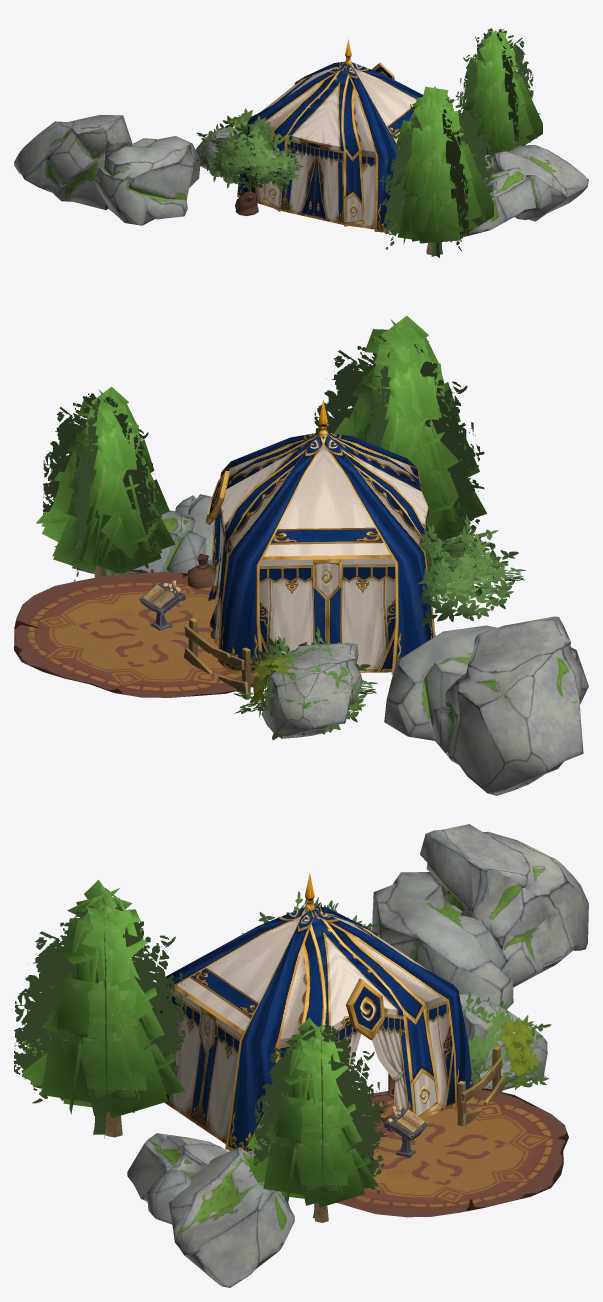
File: MainCityDecor_Home_Tent.glb
The picture shows the model from 3 angles, top to bottom: view 1: azimuth 30°, elevation 25°; view 2: azimuth 150°, elevation 25°; view 3: azimuth 270°, elevation 25°; orthographic projection. The views are drawn at different scales.
Parts seen in each view (by area): view 1: EnvCampsite_Detail__Tent___Basics___5__un2592563027630665091, EnvDetail__Bush___19_1__un3127060208149245315, SM_Gray_Stone_Small_02_LOD0__u2732957738683290237, SM_Gray_Stone_Small_01_LOD0__un7317893653869669763, EnvDetail__Bush___18__u2451417814203191933, Shadow__u4837298399486497405, EnvDetail__Bush___20_7__un4634967264953216387, SM_Gray_Stone_Small_03_LOD0_1__u1385842370882392701, SM_Gray_Stone_Small_03_LOD0__un6296737205014277507, Shadow__u7782811322288657021, EnvDetail__Bush___20_8__un6389556213359881603, SM_Gray_Stone_Small_01_LOD0__un4148644543689239939 (+1 smaller); view 2: EnvCampsite_Detail__Tent___Basics___5__un2592563027630665091, EnvCampsite_Detail__Rug__3_2__u5630360718777012861, SM_Gray_Stone_Small_01_LOD0__un7317893653869669763, EnvDetail__Bush___18__u2451417814203191933, EnvDetail__Bush___19_1__un3127060208149245315, EnvDetail__Bush___20_7__un4634967264953216387, SM_Gray_Stone_Small_01_LOD0__un4148644543689239939, Shadow__u4837298399486497405, SM_Gray_Stone_Small_02_LOD0__u2732957738683290237, Shadow__u7782811322288657021, EnvDetail__Bush___20_8__un6389556213359881603, SM_Gray_Stone_Small_03_LOD0_1__u1385842370882392701 (+5 smaller); view 3: EnvCampsite_Detail__Tent___Basics___5__un2592563027630665091, EnvDetail__Bush___19_1__un3127060208149245315, EnvCampsite_Detail__Rug__3_2__u5630360718777012861, SM_Gray_Stone_Small_01_LOD0__un7317893653869669763, EnvDetail__Bush___18__u2451417814203191933, SM_Gray_Stone_Small_03_LOD0_1__u1385842370882392701, SM_Gray_Stone_Small_02_LOD0__u2732957738683290237, Shadow__u4837298399486497405, Shadow__u7782811322288657021, SM_Gray_Stone_Small_03_LOD0__un6296737205014277507, EnvDetail__Bush___20_8__un6389556213359881603, SM_Gray_Stone_Small_01_LOD0__un4148644543689239939 (+3 smaller).
Boxes of the visible parts, bbox=[...] form: EnvCampsite_Detail__Tent___Basics___5__un2592563027630665091: bbox=[237, 39, 423, 232]; EnvDetail__Bush___19_1__un3127060208149245315: bbox=[384, 86, 494, 255]; SM_Gray_Stone_Small_02_LOD0__u2732957738683290237: bbox=[94, 136, 200, 225]; SM_Gray_Stone_Small_01_LOD0__un7317893653869669763: bbox=[14, 115, 132, 209]; EnvDetail__Bush___18__u2451417814203191933: bbox=[460, 30, 542, 155]; Shadow__u4837298399486497405: bbox=[379, 97, 493, 257]; EnvDetail__Bush___20_7__un4634967264953216387: bbox=[207, 116, 303, 192]; SM_Gray_Stone_Small_03_LOD0_1__u1385842370882392701: bbox=[483, 145, 588, 221]; SM_Gray_Stone_Small_03_LOD0__un6296737205014277507: bbox=[460, 167, 552, 237]; Shadow__u7782811322288657021: bbox=[455, 28, 533, 141]; EnvDetail__Bush___20_8__un6389556213359881603: bbox=[196, 108, 255, 183]; SM_Gray_Stone_Small_01_LOD0__un4148644543689239939: bbox=[195, 127, 241, 183]; EnvCampsite_Detail__Tent___Basics___5__un2592563027630665091: bbox=[206, 400, 435, 675]; EnvCampsite_Detail__Rug__3_2__u5630360718777012861: bbox=[14, 572, 259, 697]; SM_Gray_Stone_Small_01_LOD0__un7317893653869669763: bbox=[432, 616, 583, 795]; EnvDetail__Bush___18__u2451417814203191933: bbox=[36, 386, 175, 577]; EnvDetail__Bush___19_1__un3127060208149245315: bbox=[334, 315, 486, 541]; EnvDetail__Bush___20_7__un4634967264953216387: bbox=[417, 514, 525, 626]; SM_Gray_Stone_Small_01_LOD0__un4148644543689239939: bbox=[261, 643, 362, 738]; Shadow__u4837298399486497405: bbox=[314, 336, 484, 544]; SM_Gray_Stone_Small_02_LOD0__u2732957738683290237: bbox=[384, 625, 588, 740]; Shadow__u7782811322288657021: bbox=[43, 393, 159, 582]; EnvDetail__Bush___20_8__un6389556213359881603: bbox=[233, 627, 377, 739]; SM_Gray_Stone_Small_03_LOD0_1__u1385842370882392701: bbox=[72, 510, 205, 575]; EnvCampsite_Detail__Tent___Basics___5__un2592563027630665091: bbox=[160, 873, 474, 1151]; EnvDetail__Bush___19_1__un3127060208149245315: bbox=[21, 880, 184, 1137]; EnvCampsite_Detail__Rug__3_2__u5630360718777012861: bbox=[338, 1088, 568, 1217]; SM_Gray_Stone_Small_01_LOD0__un7317893653869669763: bbox=[420, 824, 588, 987]; EnvDetail__Bush___18__u2451417814203191933: bbox=[246, 1017, 378, 1222]; SM_Gray_Stone_Small_03_LOD0_1__u1385842370882392701: bbox=[169, 1147, 294, 1287]; SM_Gray_Stone_Small_02_LOD0__u2732957738683290237: bbox=[372, 872, 513, 1009]; Shadow__u4837298399486497405: bbox=[14, 905, 187, 1138]; Shadow__u7782811322288657021: bbox=[254, 1023, 387, 1217]; SM_Gray_Stone_Small_03_LOD0__un6296737205014277507: bbox=[127, 1133, 228, 1224]; EnvDetail__Bush___20_8__un6389556213359881603: bbox=[463, 991, 551, 1089]; SM_Gray_Stone_Small_01_LOD0__un4148644543689239939: bbox=[459, 994, 547, 1090].
Size of the model in its own units: 14.1 by 5.77 by 10.53.
15 materials, 15 textured.
